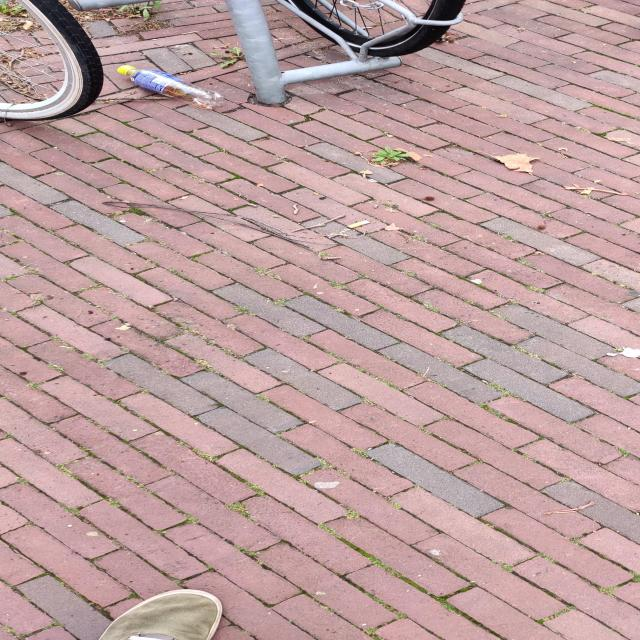litter: (98, 589, 224, 640)
